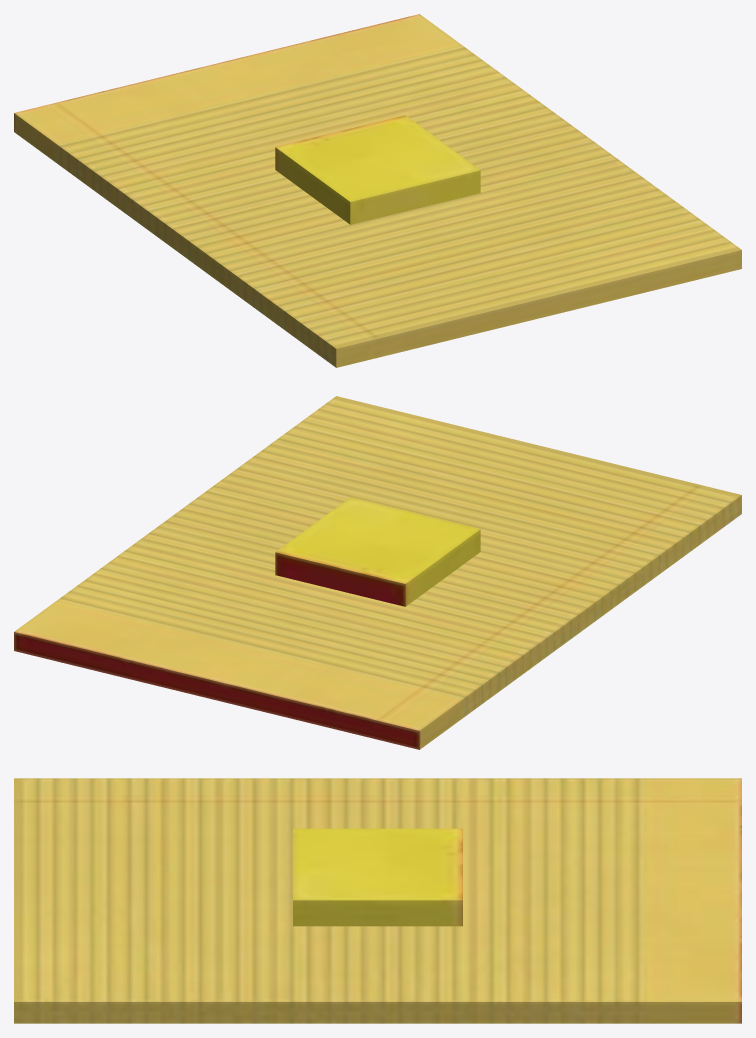
File: notepads.glb
3 views of the same model, one above another, from view 1: azimuth 30°, elevation 25°; view 2: azimuth 150°, elevation 25°; view 3: azimuth 270°, elevation 25° (orthographic). The views are drawn at different scales.
Visible parts, largest first — view 1: office_notepads_yellow_pad, office_notepads_sticky_stack; view 2: office_notepads_yellow_pad, office_notepads_sticky_stack; view 3: office_notepads_yellow_pad, office_notepads_sticky_stack.
Part boxes in pixels (x1,y1,x2,y2): office_notepads_yellow_pad: [14, 14, 741, 367]; office_notepads_sticky_stack: [275, 115, 480, 224]; office_notepads_yellow_pad: [14, 396, 741, 749]; office_notepads_sticky_stack: [275, 497, 480, 606]; office_notepads_yellow_pad: [14, 778, 741, 1023]; office_notepads_sticky_stack: [293, 828, 462, 926].
Bounding box in the file's own units: 0.2233 × 0.022 × 0.3073.
Materials: 1 (1 with a texture image).
